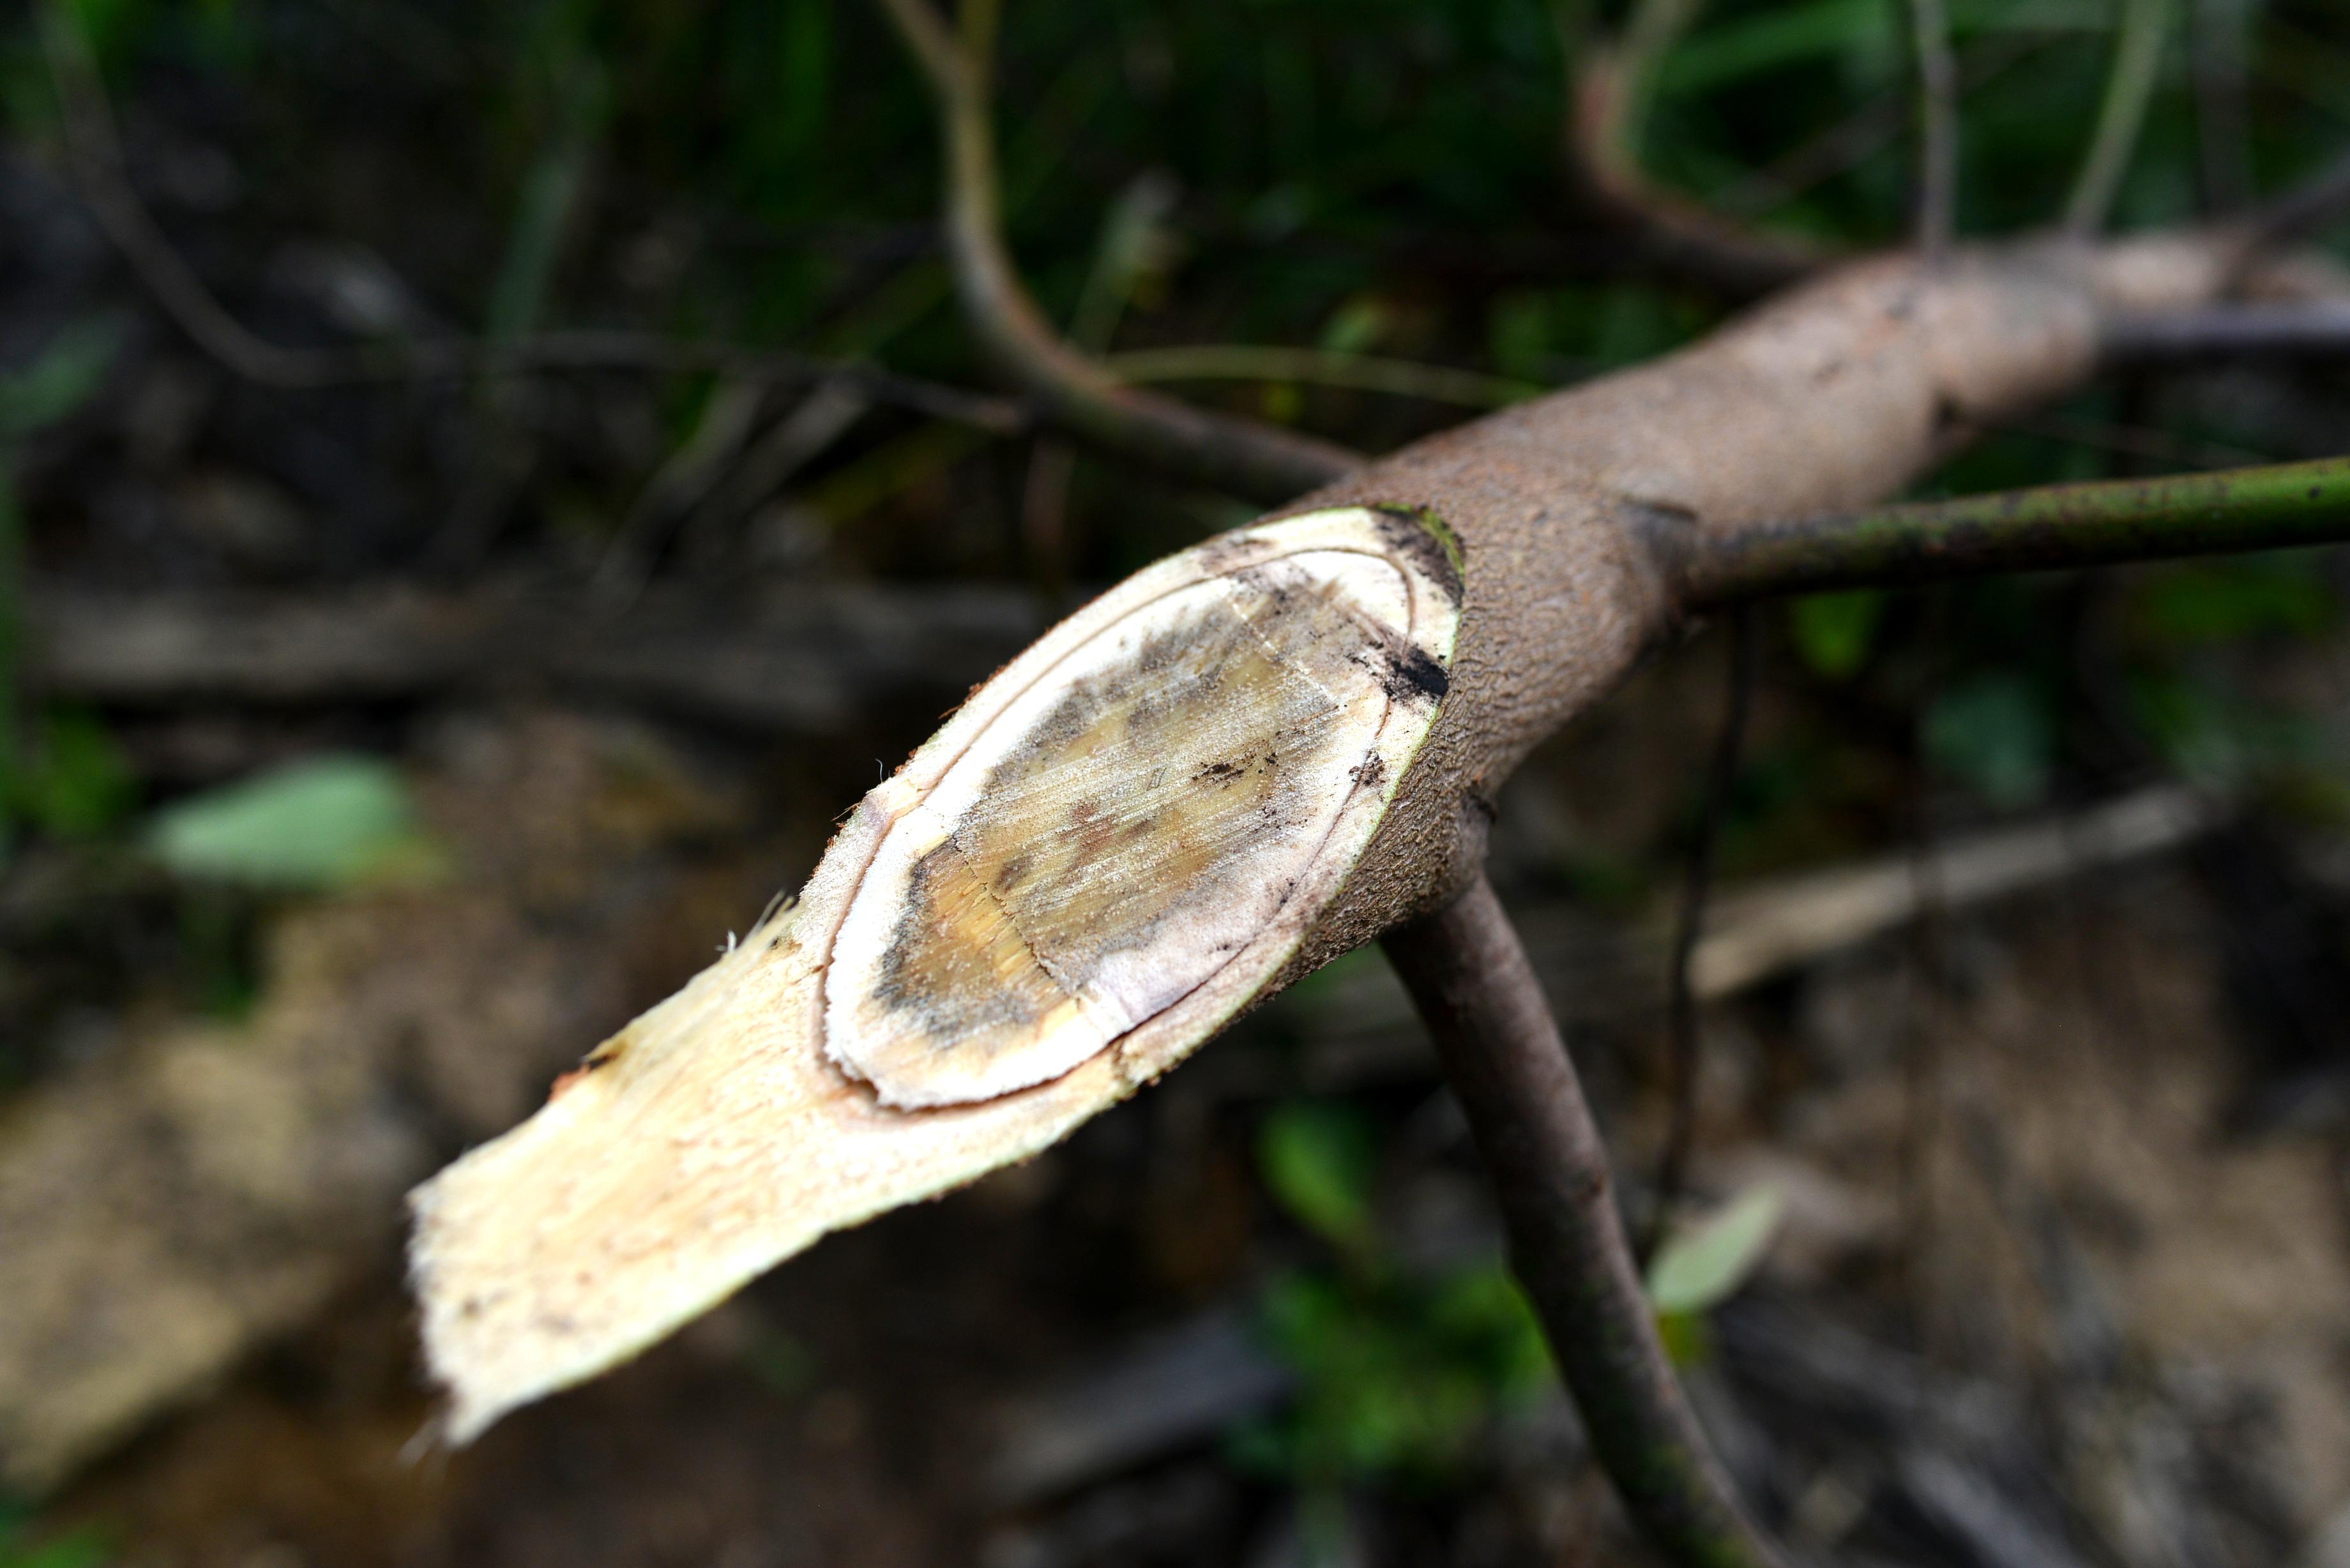Ralstonia: (896, 623, 1428, 1006)
